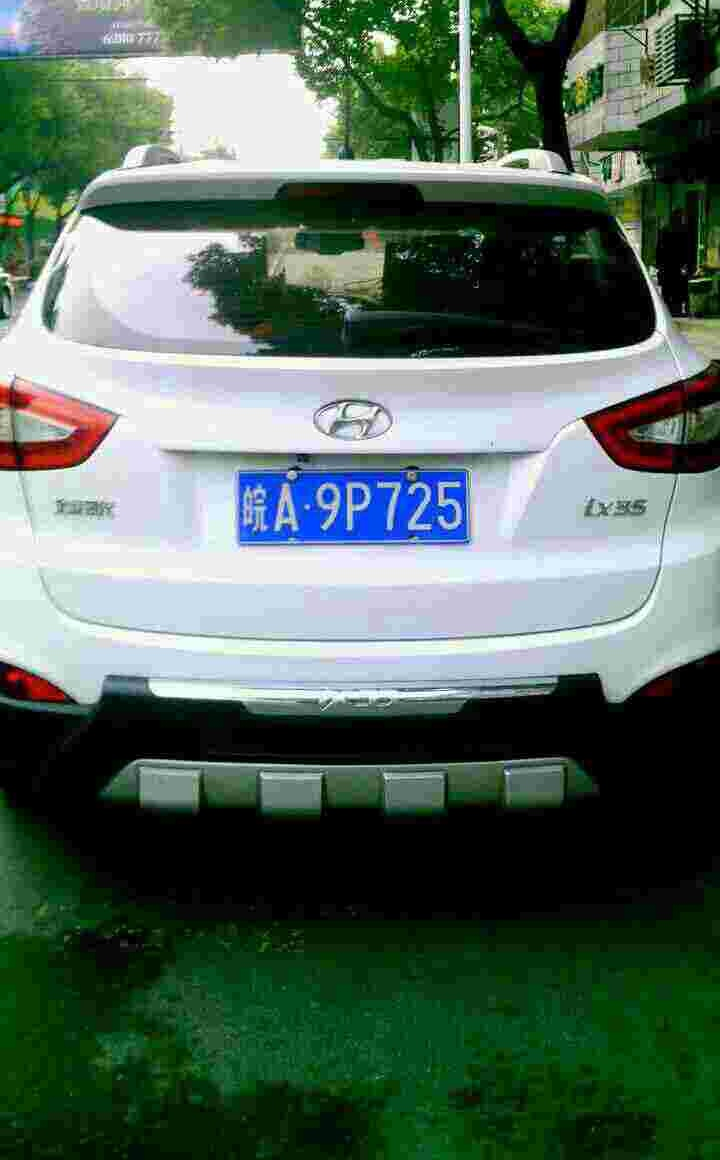plate: (238, 465, 474, 547)
